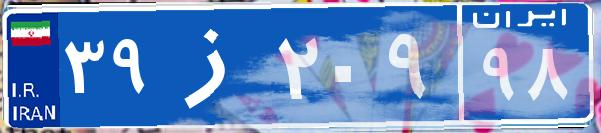0: (330, 28, 385, 110)
2: (273, 28, 330, 110)
3: (57, 26, 110, 107)
8: (525, 38, 570, 115)
9: (385, 28, 445, 110), (475, 38, 525, 113), (110, 28, 158, 105)
ز: (158, 15, 273, 115)
